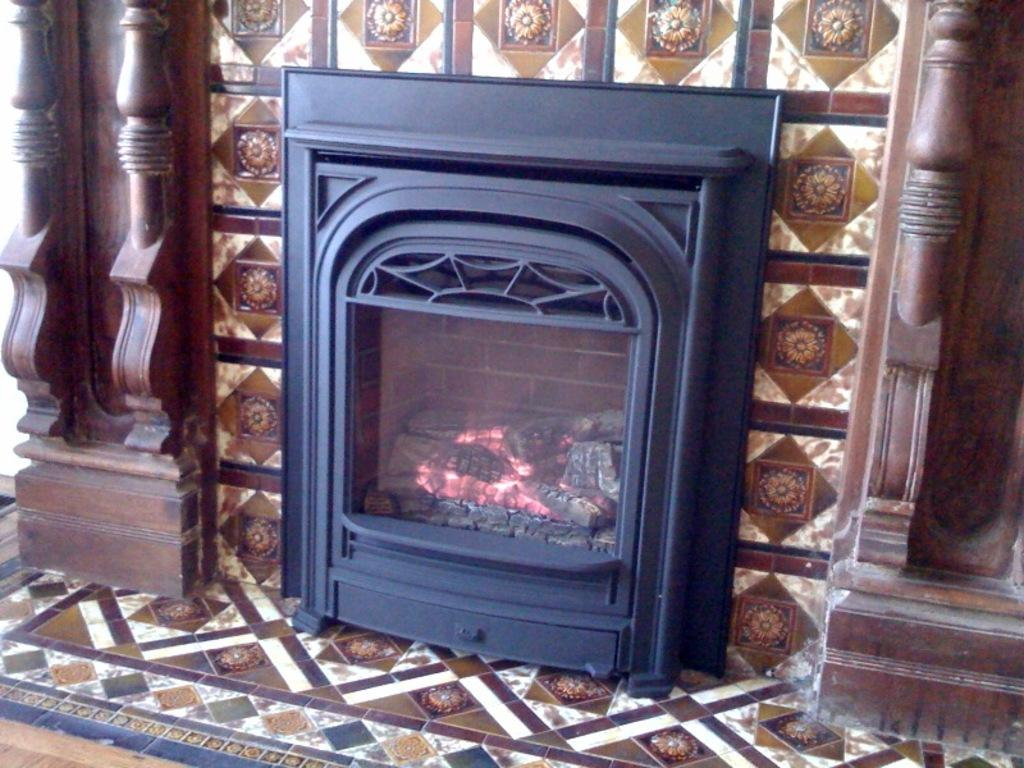Fire: (407, 416, 554, 523)
